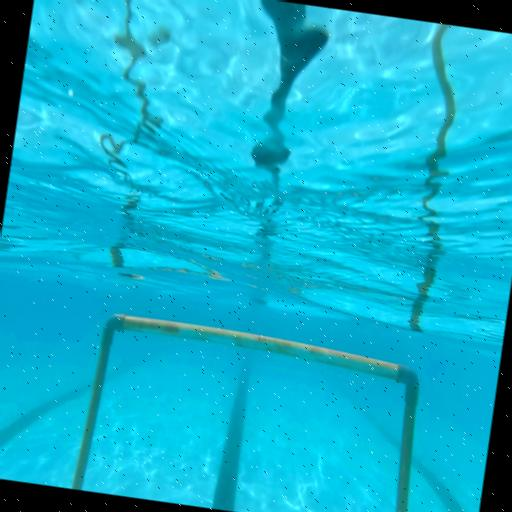gate: (69, 309, 432, 512)
